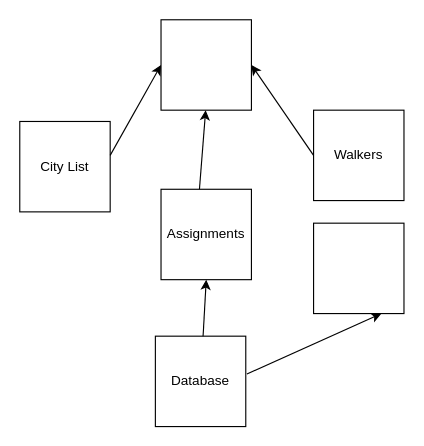
Image size: 424x446. Some labels were removed from this diagram. The shapes that lost their labels are listed below. From the top down, each one's centre as x and y in pixels, then its label:
At [205,64]: "Main".
At [358,268]: "Registered Pets".
